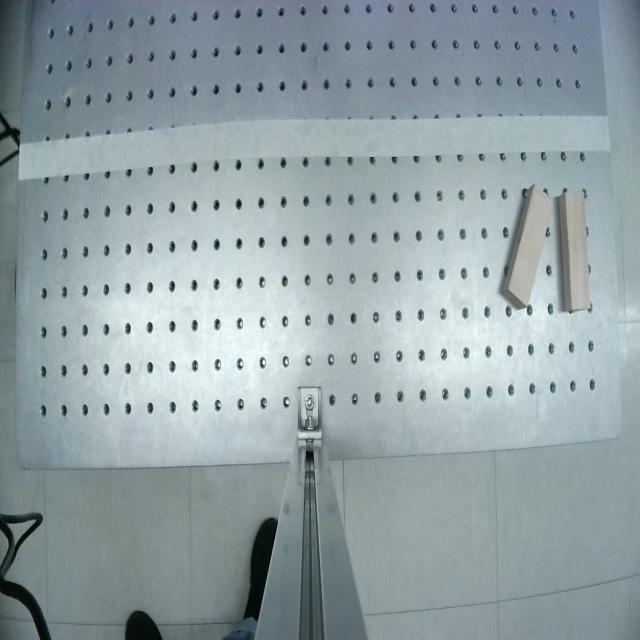wood: (499, 183, 556, 312), (558, 191, 591, 312)
